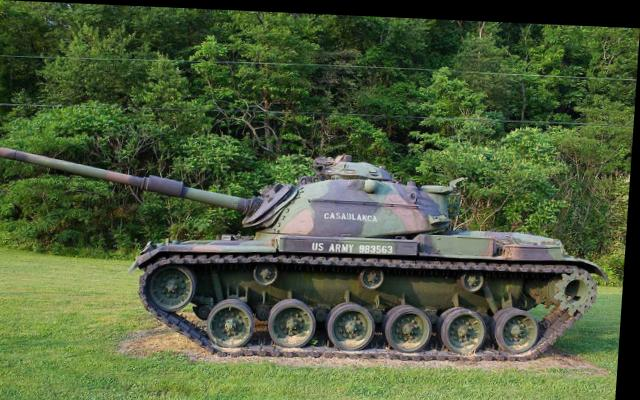tank: (127, 132, 605, 360)
